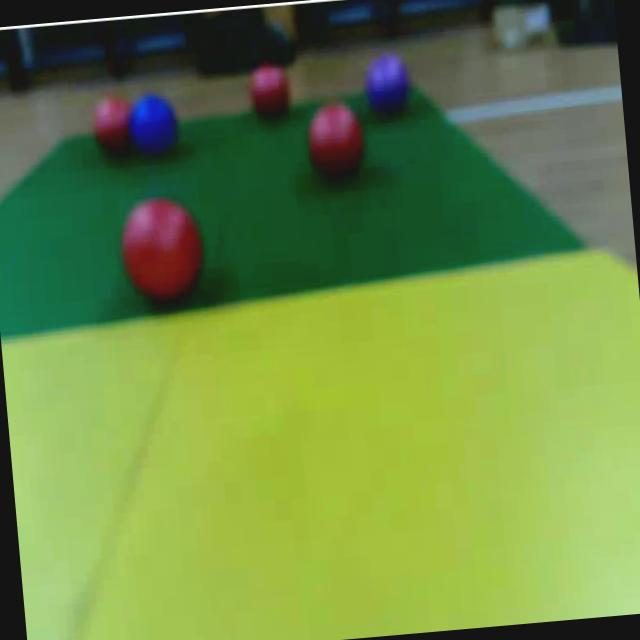blue_ball: (360, 46, 418, 120), (128, 85, 184, 157)
red_ball: (118, 190, 208, 310), (305, 97, 366, 183), (86, 86, 138, 160), (246, 58, 292, 126)
